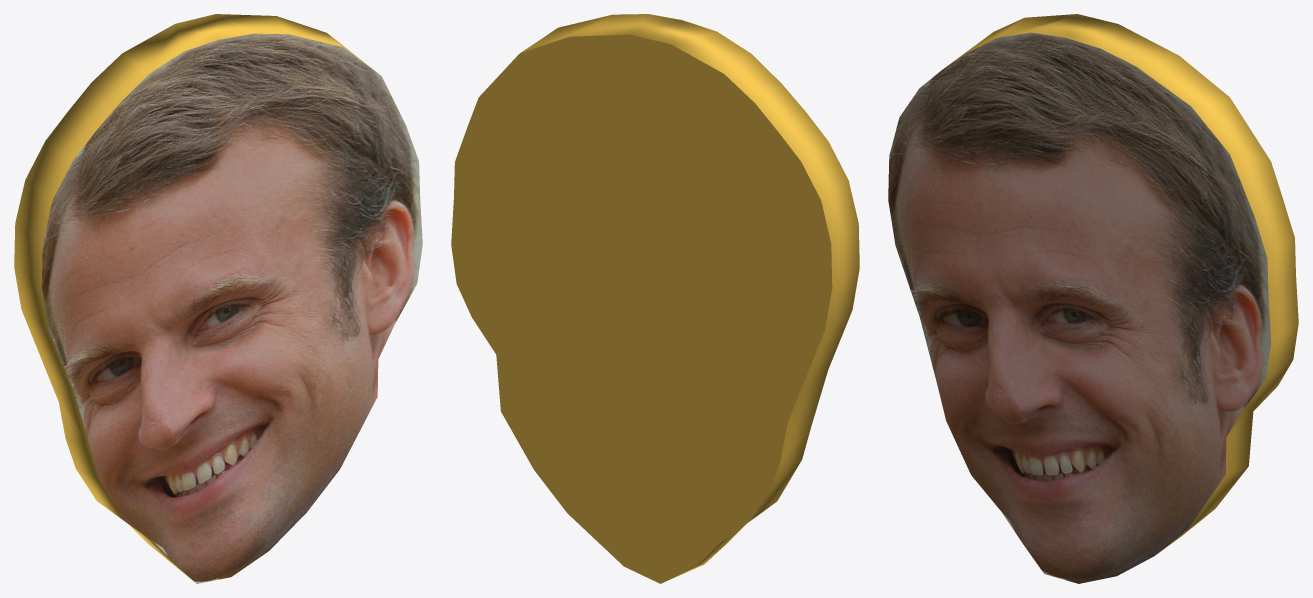
The model's file is Emmanuel_Macron.glb.
3 renders of one model, left to right at view 1: azimuth 30°, elevation 25°; view 2: azimuth 150°, elevation 25°; view 3: azimuth 330°, elevation 25°, orthographic.
Visible parts, largest first — view 1: Curve; view 2: Curve; view 3: Curve.
Part boxes in pixels (<box>): Curve: <box>14,14,422,583</box>; Curve: <box>451,14,859,583</box>; Curve: <box>888,14,1298,583</box>.
Bounding box in the file's own units: 1.2 × 1.64 × 0.1505.
Materials: 2 (1 with a texture image).
